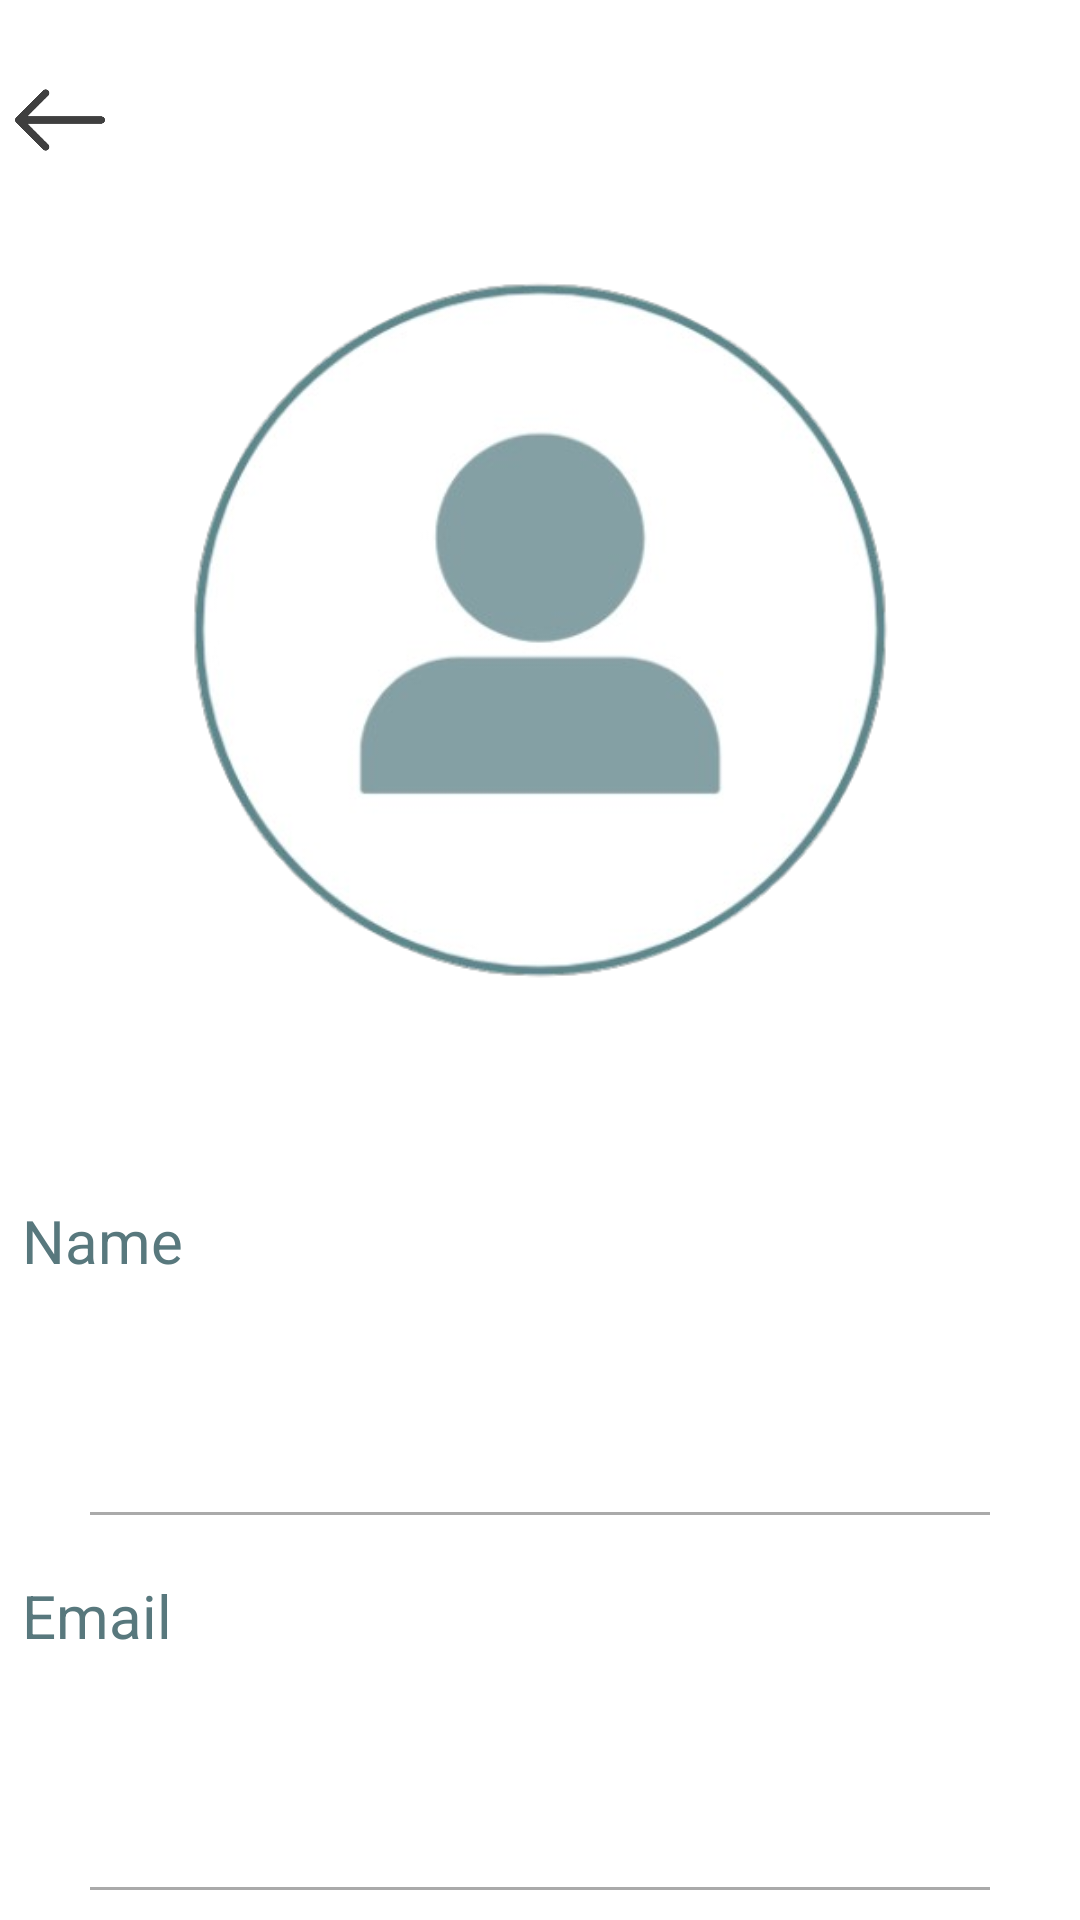

Where icons sit on this 1080px x 1920px app screen, as [x1=x1, y1=y1, x2=x2, y2=y2]:
back arrow: [x1=15, y1=89, x2=105, y2=151]
